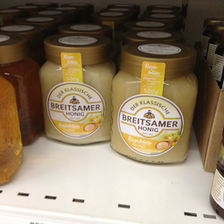honey: (109, 42, 198, 168), (38, 32, 114, 148)
